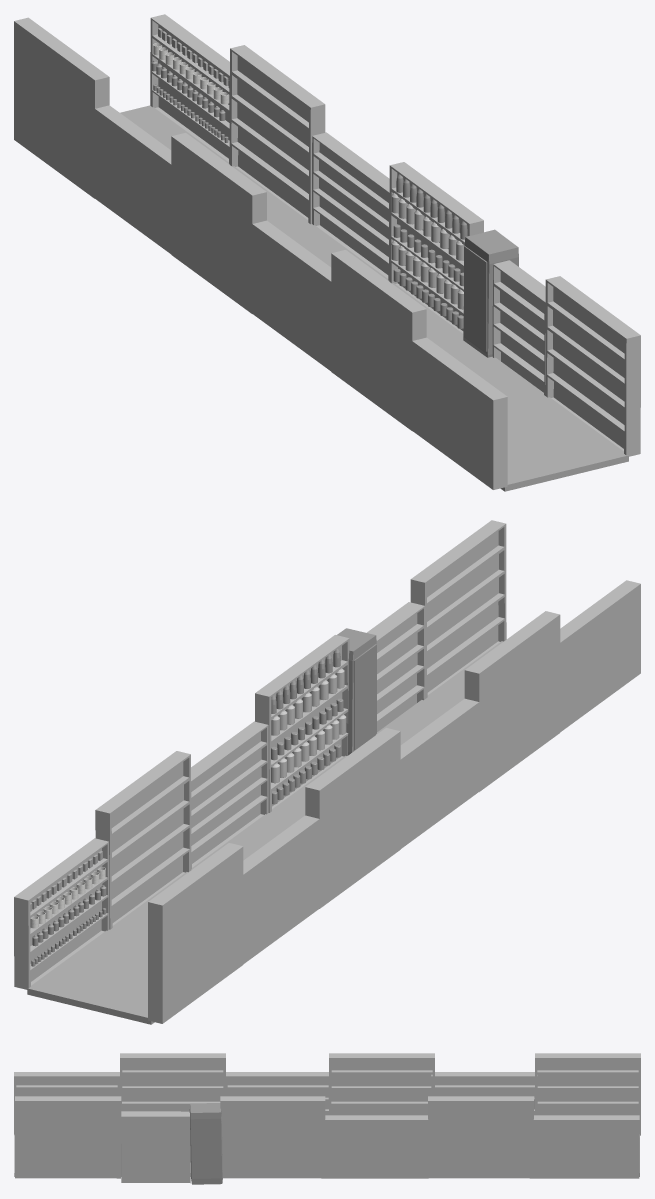
The model's file is Plataforma.fbx.
3 views of the same model, one above another, from view 1: azimuth 30°, elevation 25°; view 2: azimuth 150°, elevation 25°; view 3: azimuth 270°, elevation 25° (orthographic). The views are drawn at different scales.
Parts seen in each view (by area): view 1: persp2; view 2: persp2; view 3: persp2.
Part boxes in pixels (x1,y1,x2,y2): persp2: (14,14,640,491); persp2: (14,520,640,1024); persp2: (14,1053,640,1184).
Size of the model in its own units: 19.39 by 14.43 by 100.
